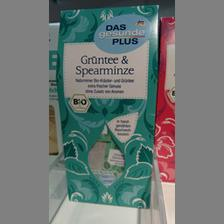Tee: (54, 3, 158, 209)
